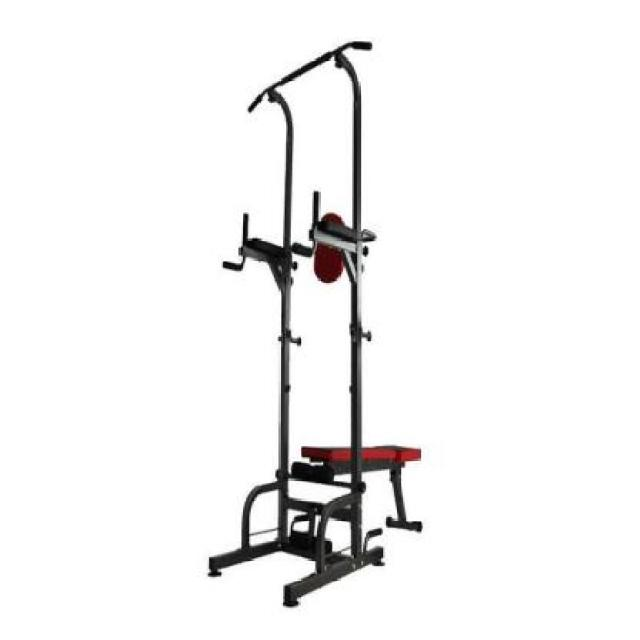chinning dipping: (209, 41, 385, 602)
